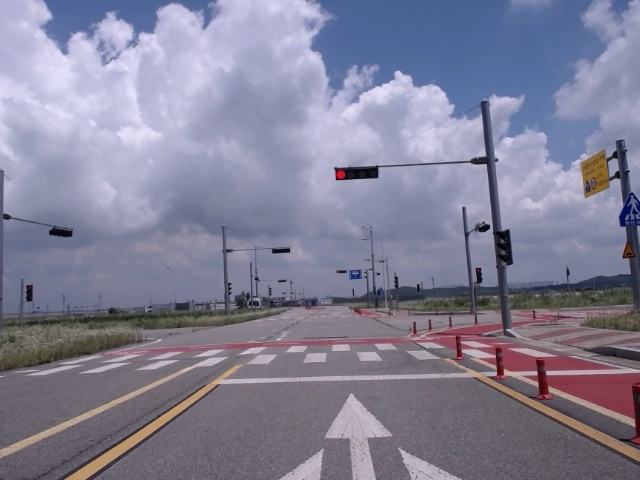red_4: (335, 168, 379, 179)
